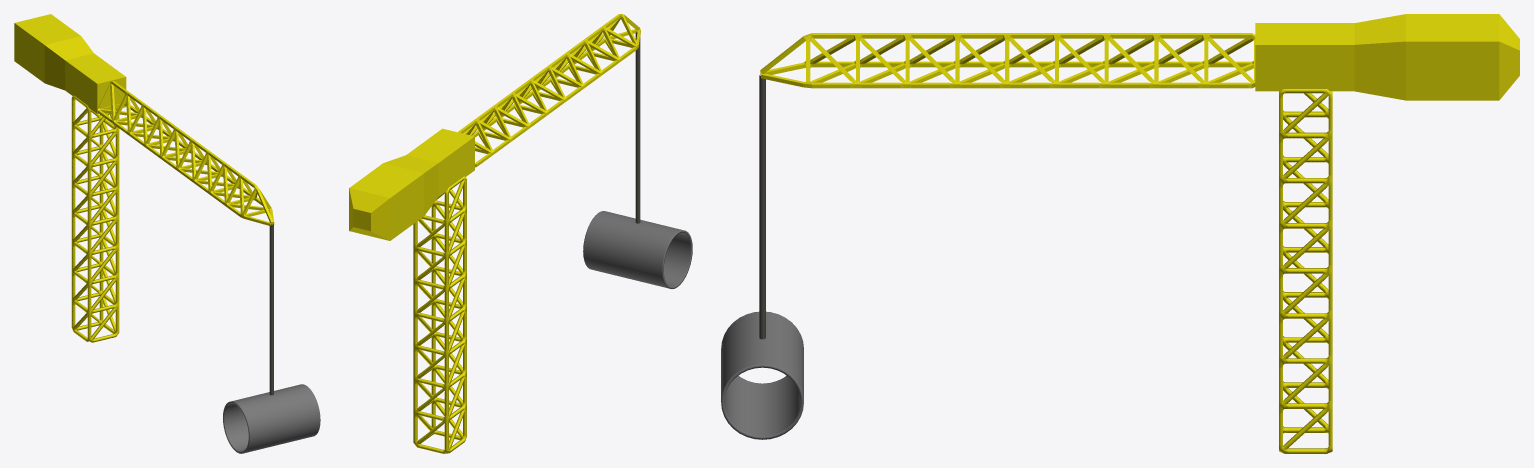
Rendered from crane.glb.
3 views of the same model, side by side, from view 1: azimuth 30°, elevation 25°; view 2: azimuth 150°, elevation 25°; view 3: azimuth 270°, elevation 25° (orthographic). The views are drawn at different scales.
Parts seen in each view (by area): view 1: CraneTower-col, Arm, Weight, Tube-col, Wire-col; view 2: CraneTower-col, Weight, Arm, Tube-col, Wire-col; view 3: Weight, Arm, CraneTower-col, Tube-col, Wire-col.
Boxes of the visible parts, x1,y1,x2,y2 form: CraneTower-col: [71, 95, 119, 342]; Arm: [97, 81, 274, 225]; Weight: [14, 14, 126, 113]; Tube-col: [223, 384, 320, 453]; Wire-col: [269, 224, 273, 395]; CraneTower-col: [413, 176, 466, 453]; Weight: [349, 128, 474, 240]; Arm: [458, 14, 640, 167]; Tube-col: [583, 211, 692, 288]; Wire-col: [635, 32, 640, 223]; Weight: [1255, 14, 1519, 100]; Arm: [760, 33, 1255, 88]; CraneTower-col: [1279, 89, 1332, 453]; Tube-col: [721, 311, 803, 439]; Wire-col: [759, 75, 765, 339].
Size of the model in its own units: 15.2 by 55.19 by 96.32.
